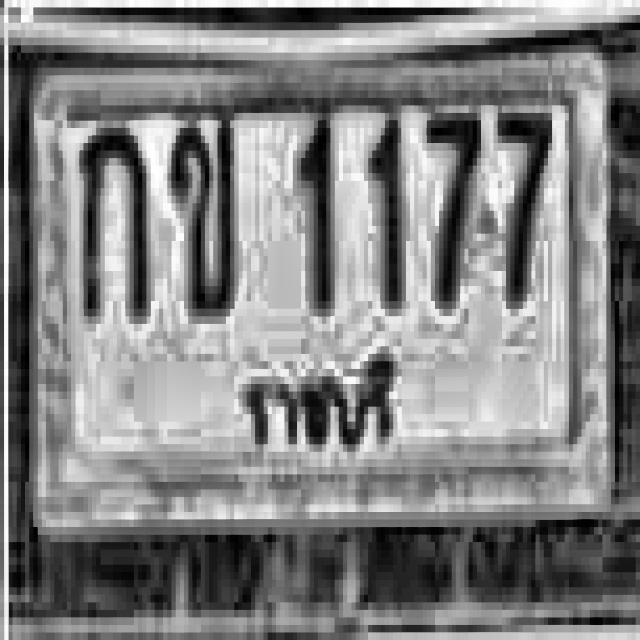license-plate: (30, 40, 614, 543)
